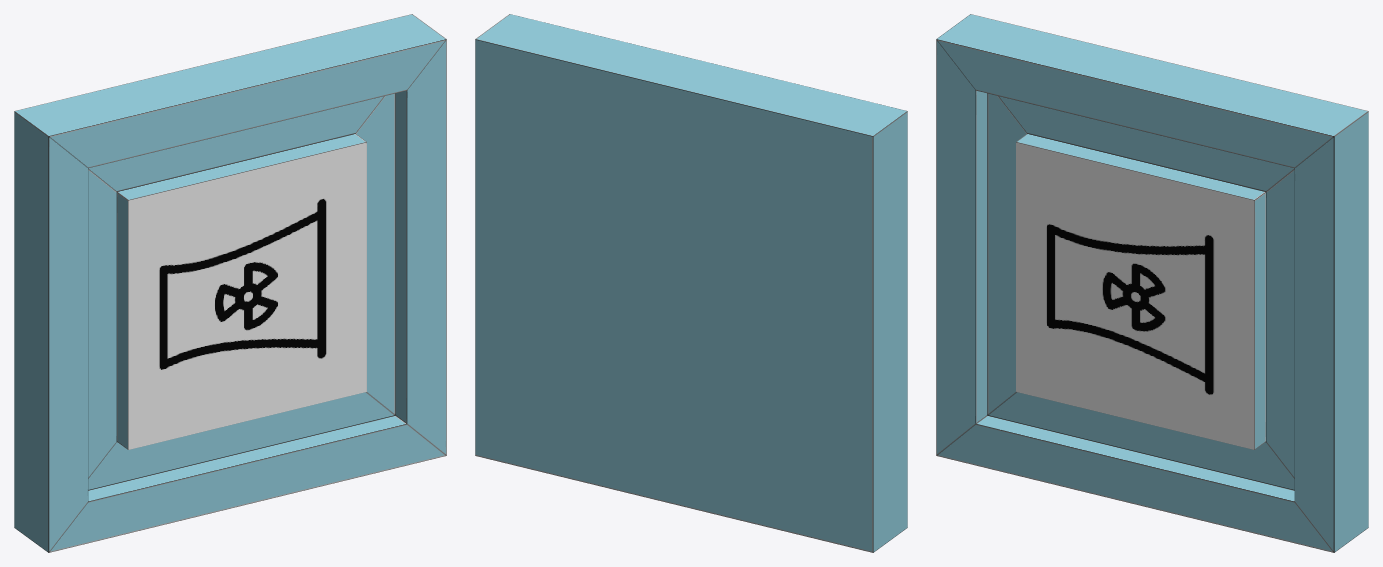
Rendered from NuclearLevel1_rot_2_3.fbx.
3 views of the same model, side by side, from view 1: azimuth 30°, elevation 25°; view 2: azimuth 150°, elevation 25°; view 3: azimuth 330°, elevation 25° (orthographic).
Parts seen in each view (by area): view 1: Plane; view 2: Plane; view 3: Plane.
Boxes of the visible parts, x1,y1,x2,y2 form: Plane: (14,14,446,552); Plane: (475,14,907,552); Plane: (936,14,1368,552).
Bounding box in the file's own units: 460 × 460 × 69.
Materials: 1 (1 with a texture image).
